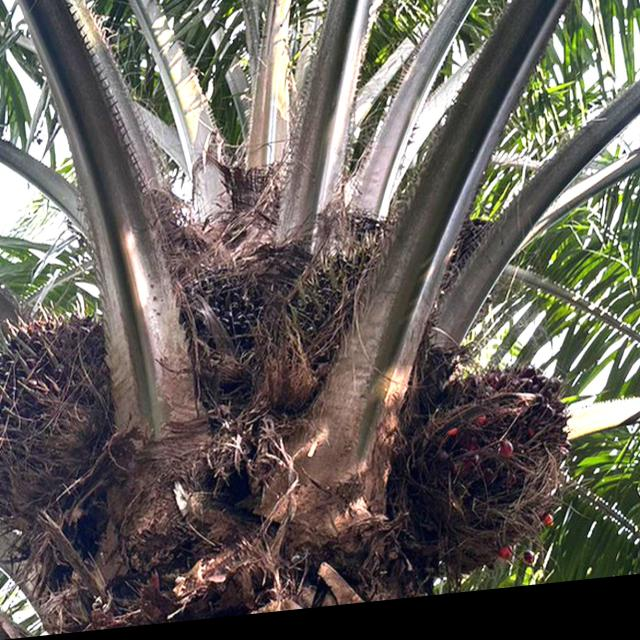unripe: (277, 237, 463, 412), (120, 257, 268, 415)
